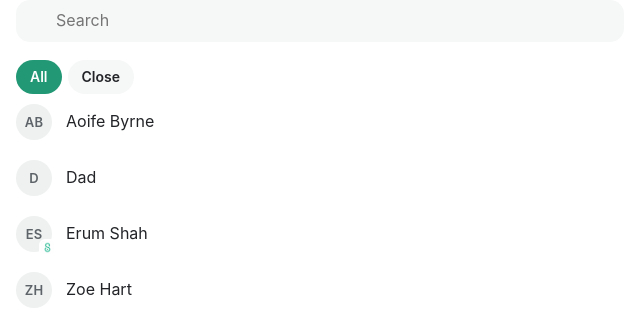
Test case: People page › searches by name
Type "zo" into the search field named "Search people". click: (333, 21)
box: [56,8,610,34]
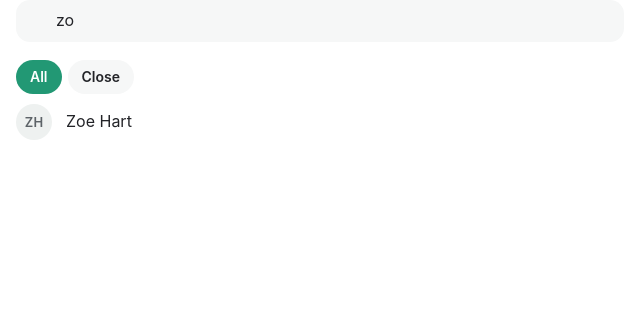
Replace the text in the search field named "Search people" with "nobody". click: (333, 21)
box: [56,8,610,34]
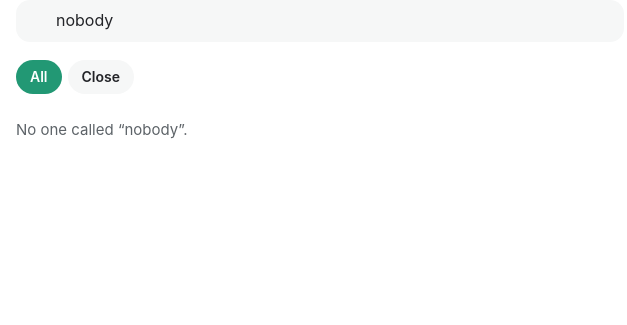
Result: the text "No one called “nobody”." is shown at [16,120,188,139]
